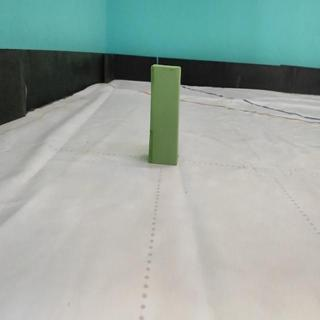greenbox: (148, 62, 182, 165)
